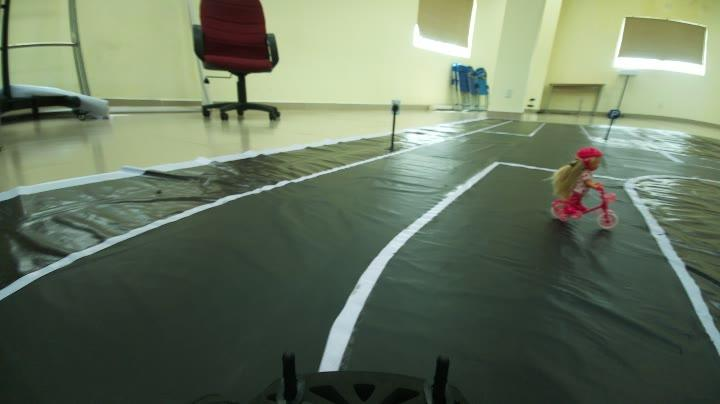pedestrian: (550, 141, 620, 227)
